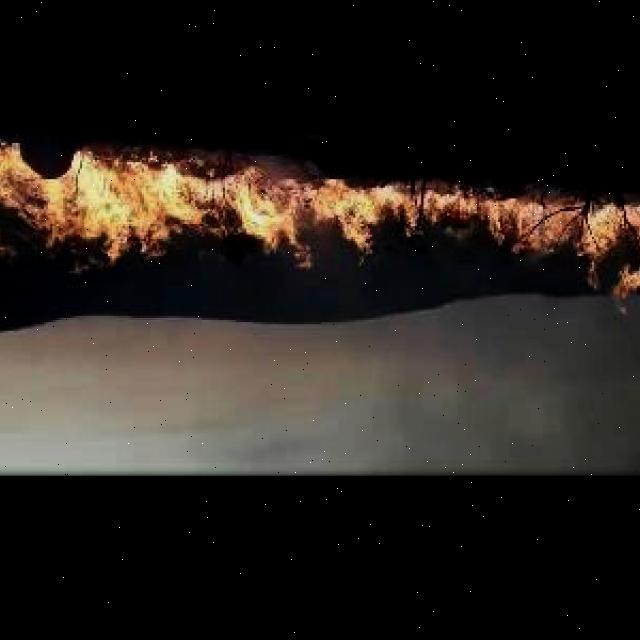fire: (0, 139, 640, 313)
